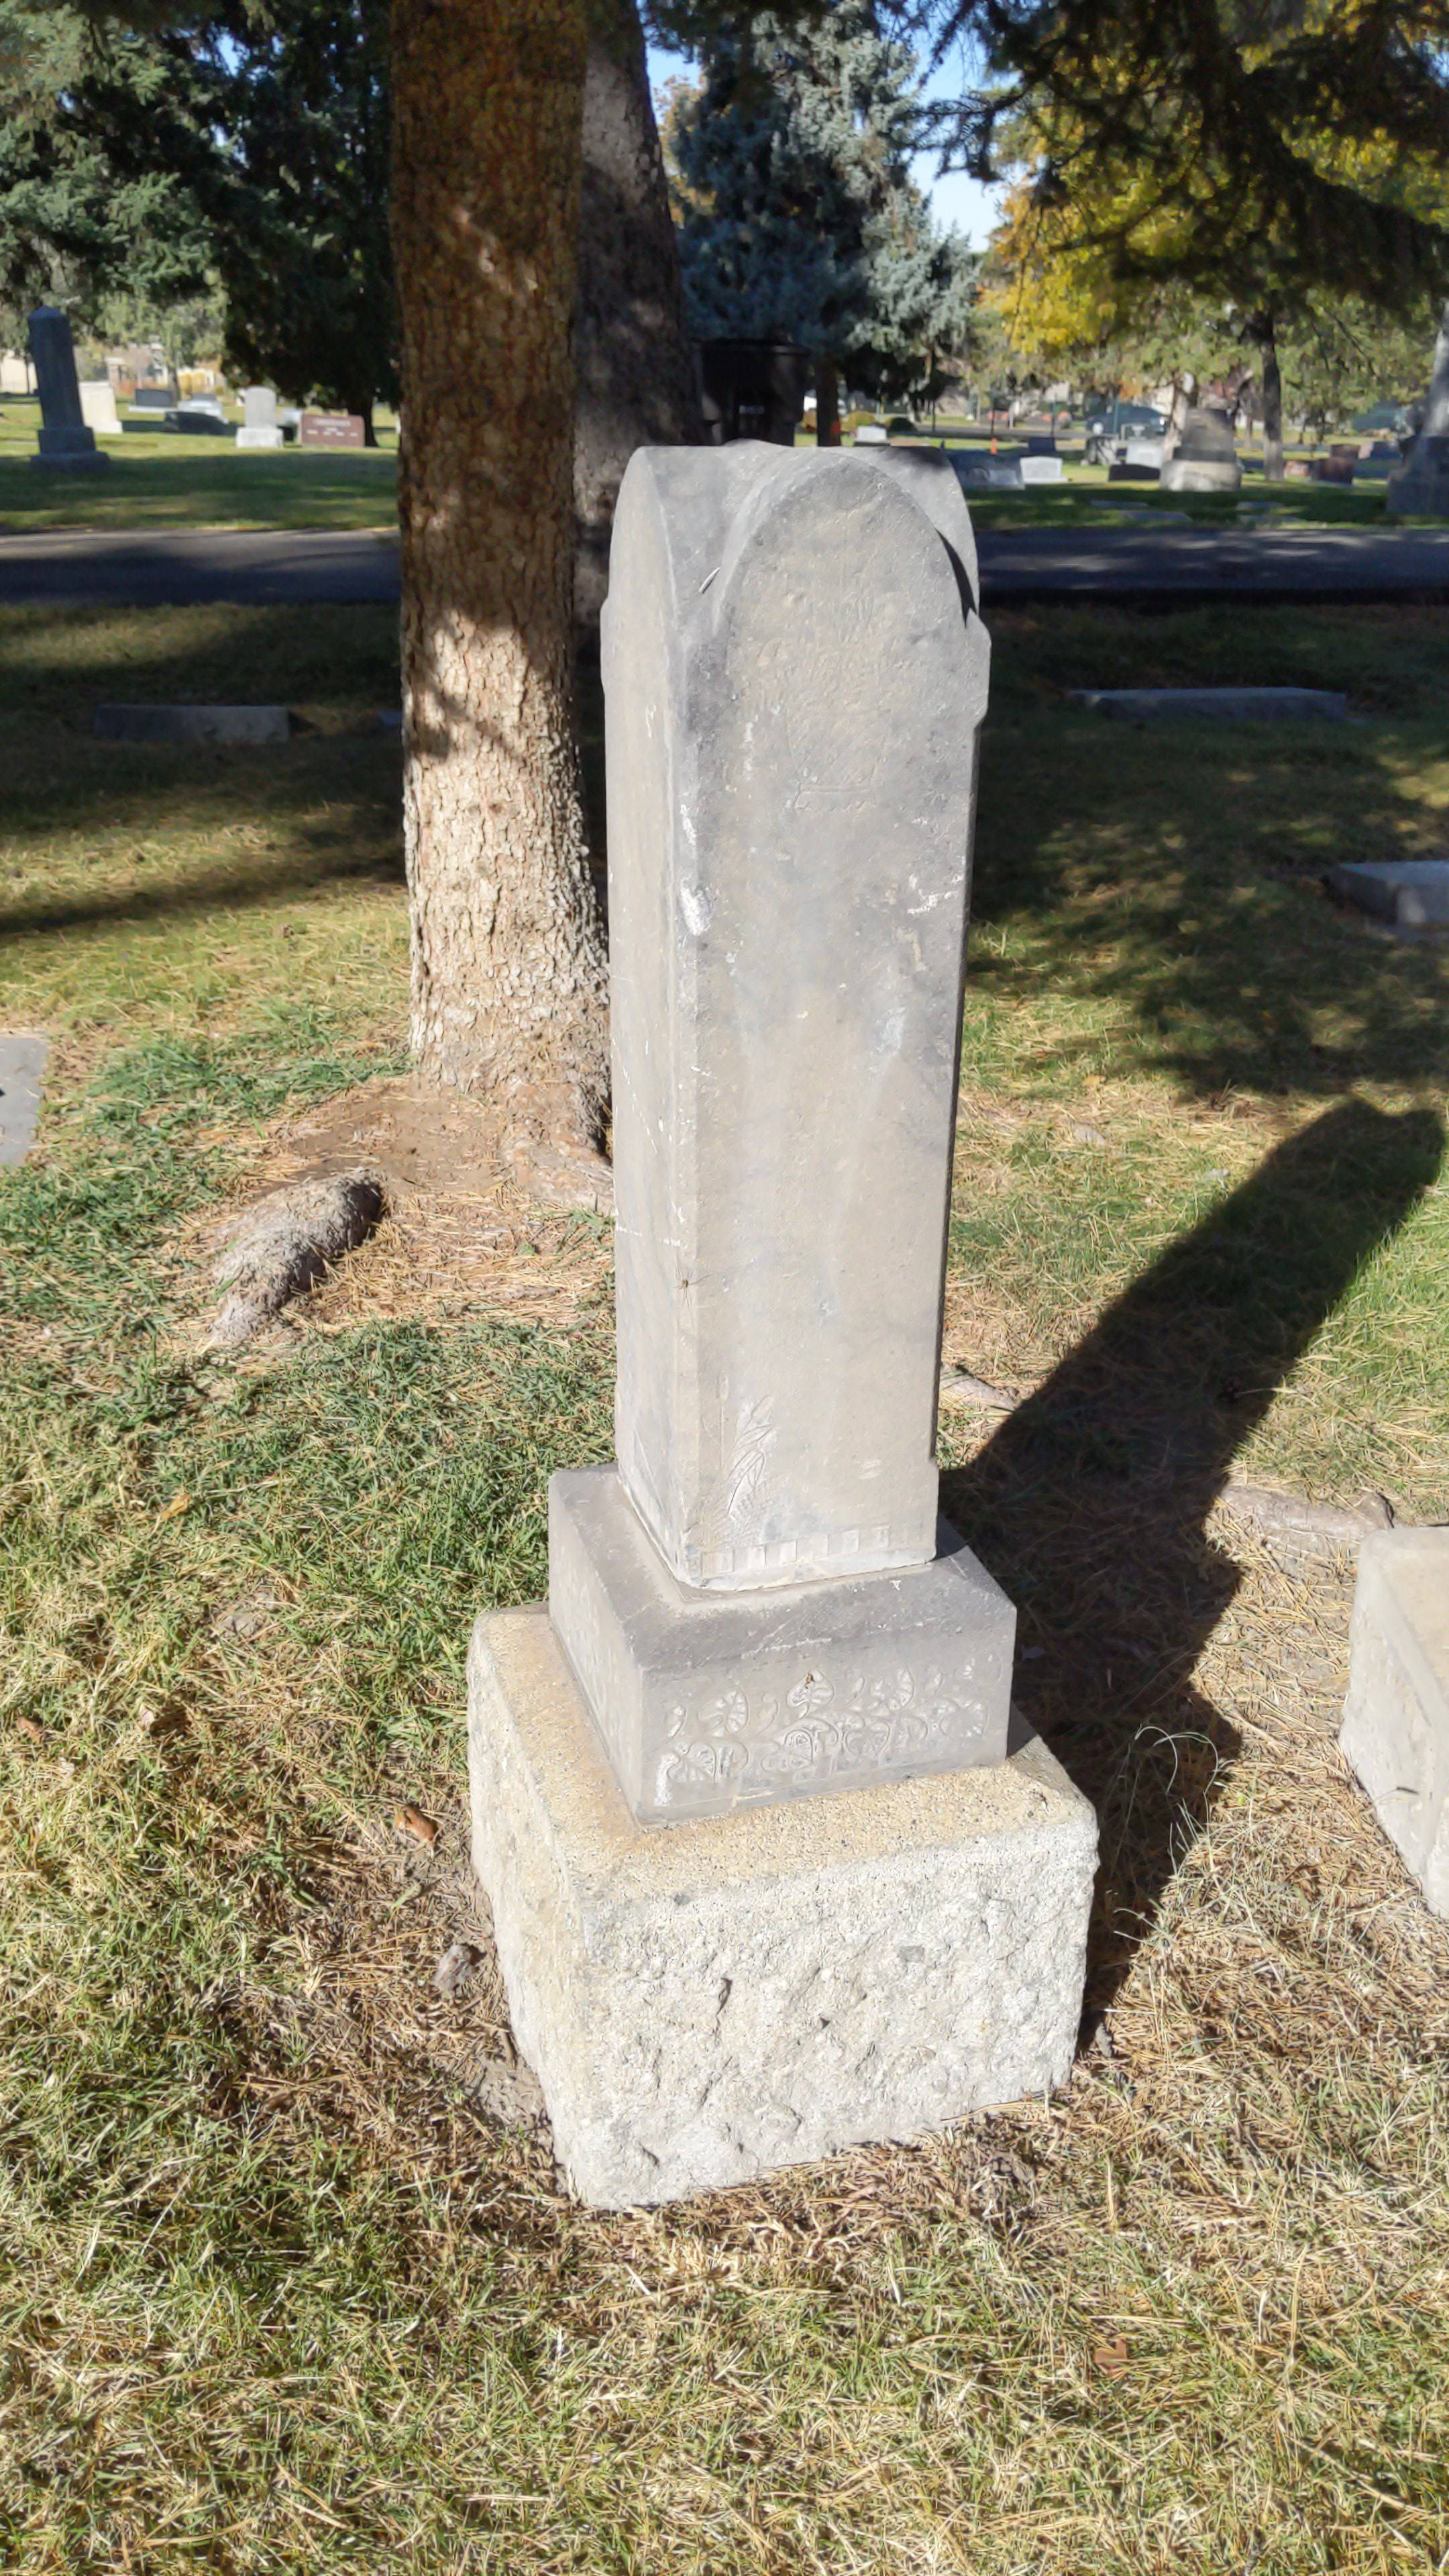obelisk: (543, 435, 1021, 1829)
